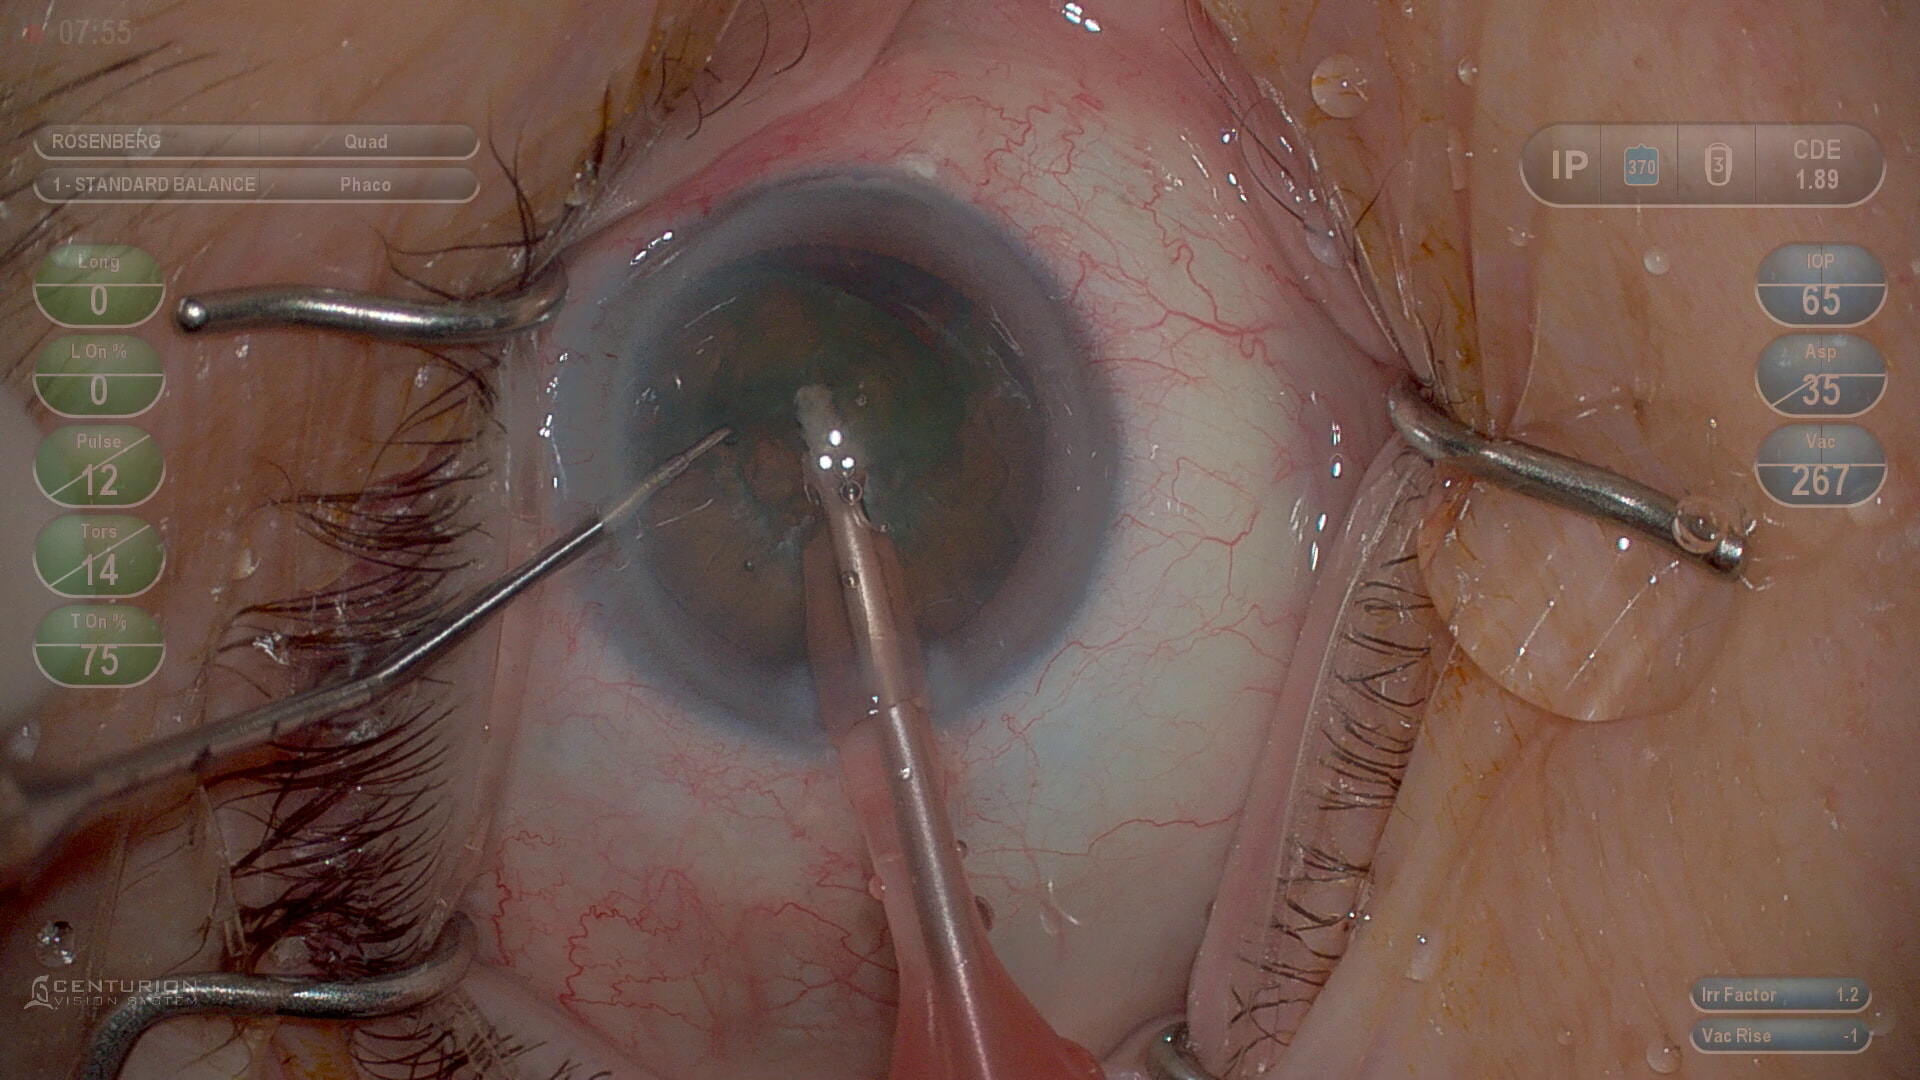iris: (564, 194, 1105, 719)
pupil: (637, 250, 1057, 648)
